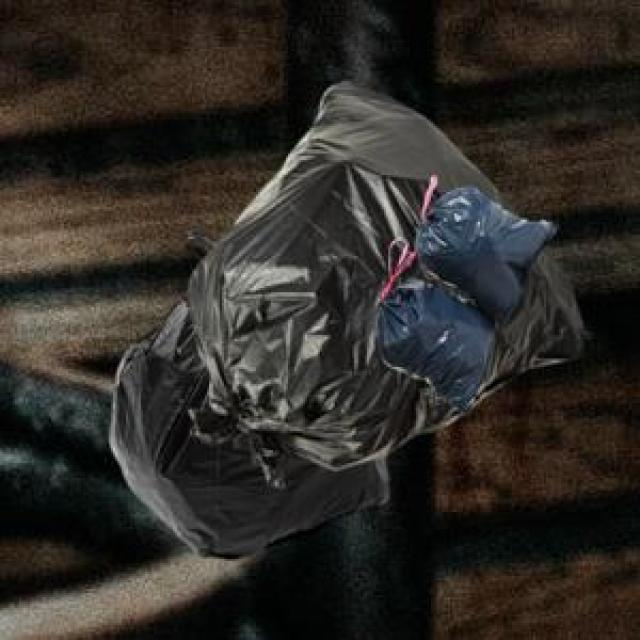miscellaneous trash: (186, 79, 587, 482), (105, 224, 384, 555), (373, 173, 553, 412)
